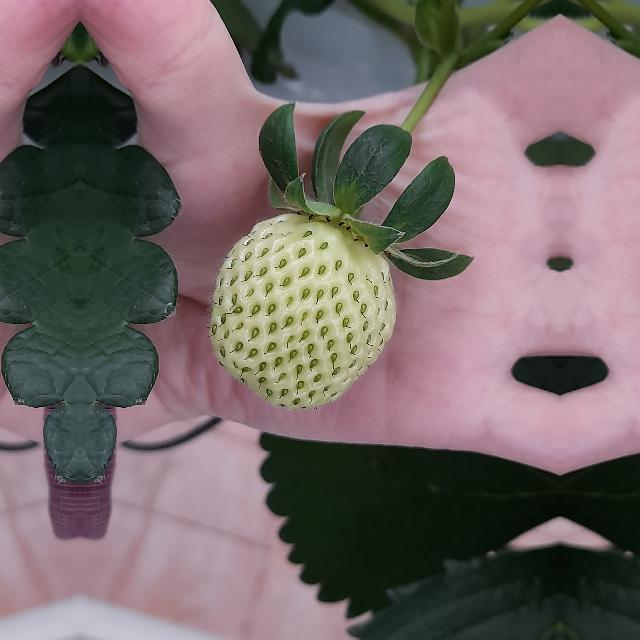Health_25: (208, 214, 396, 410)
